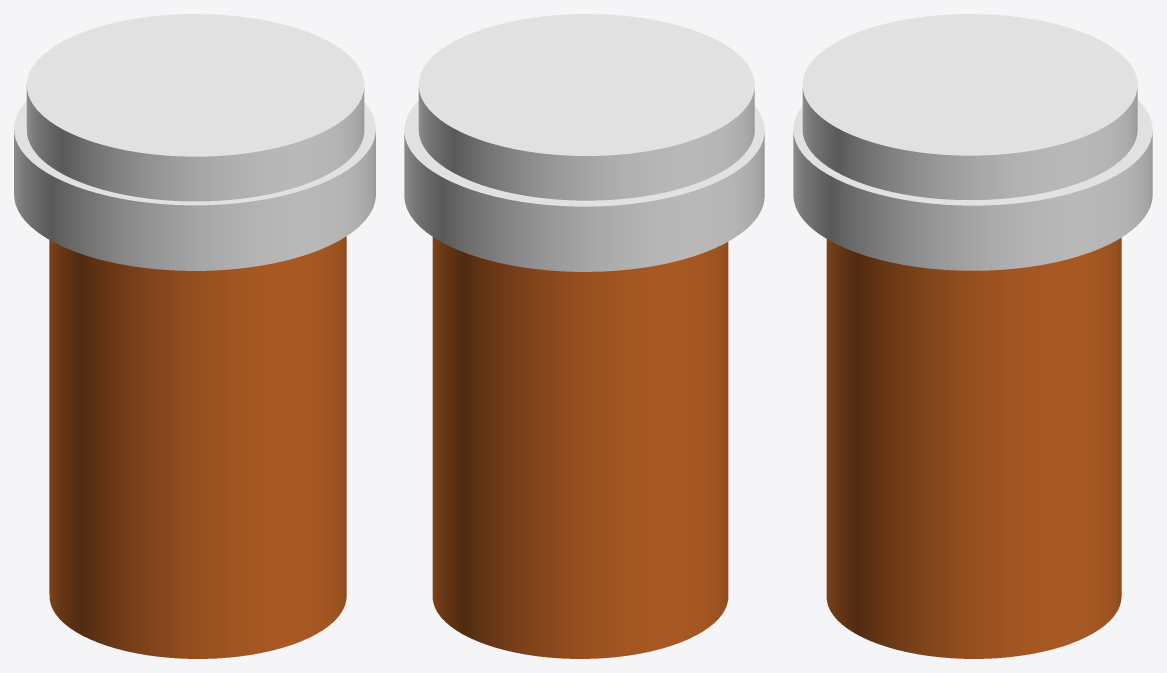
File: pillBottle.glb
3 renders of one model, left to right at view 1: azimuth 30°, elevation 25°; view 2: azimuth 150°, elevation 25°; view 3: azimuth 270°, elevation 25°, orthographic.
Visible parts, largest first — view 1: mesh_id27, mesh_id31, mesh_id29; view 2: mesh_id27, mesh_id31, mesh_id29; view 3: mesh_id27, mesh_id31, mesh_id29.
Boxes of the visible parts, <box> form: mesh_id27: <box>49,236,346,658</box>; mesh_id31: <box>26,14,364,201</box>; mesh_id29: <box>14,101,375,270</box>; mesh_id27: <box>432,237,728,658</box>; mesh_id31: <box>418,14,754,200</box>; mesh_id29: <box>404,101,764,271</box>; mesh_id27: <box>826,237,1121,658</box>; mesh_id31: <box>802,14,1137,200</box>; mesh_id29: <box>793,100,1152,270</box>.
Bounding box in the file's own units: 0.2514 × 0.3934 × 0.2514.
3 materials, 3 textured.
